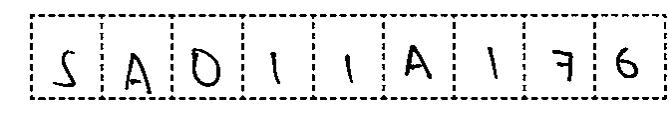0: (182, 40, 227, 94)
1: (257, 44, 292, 92), (475, 40, 510, 86), (332, 49, 364, 89)
6: (608, 41, 645, 82)
7: (544, 41, 582, 89)
A: (116, 50, 159, 96), (396, 38, 438, 83)
S: (49, 45, 82, 93)
